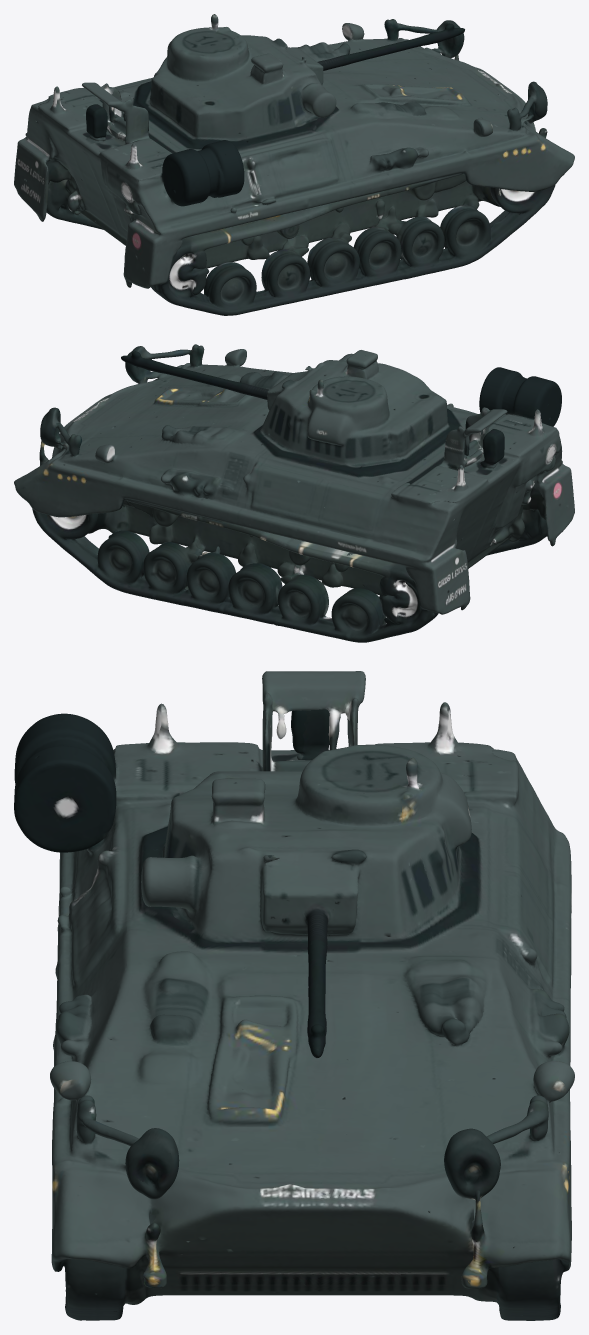
3 views of the same model, one above another, from view 1: azimuth 30°, elevation 25°; view 2: azimuth 150°, elevation 25°; view 3: azimuth 270°, elevation 25° (orthographic). The views are drawn at different scales.
Parts seen in each view (by area): view 1: tripo_node_0330cca4-bbd3-4f8a-b8d1-3b9b6b14c9c8; view 2: tripo_node_0330cca4-bbd3-4f8a-b8d1-3b9b6b14c9c8; view 3: tripo_node_0330cca4-bbd3-4f8a-b8d1-3b9b6b14c9c8.
Part boxes in pixels (x1,y1,x2,y2): tripo_node_0330cca4-bbd3-4f8a-b8d1-3b9b6b14c9c8: [14, 14, 574, 315]; tripo_node_0330cca4-bbd3-4f8a-b8d1-3b9b6b14c9c8: [14, 344, 574, 642]; tripo_node_0330cca4-bbd3-4f8a-b8d1-3b9b6b14c9c8: [14, 671, 574, 1320].
Bounding box in the file's own units: 0.9444 × 0.4718 × 0.5782.
Materials: 1 (1 with a texture image).
